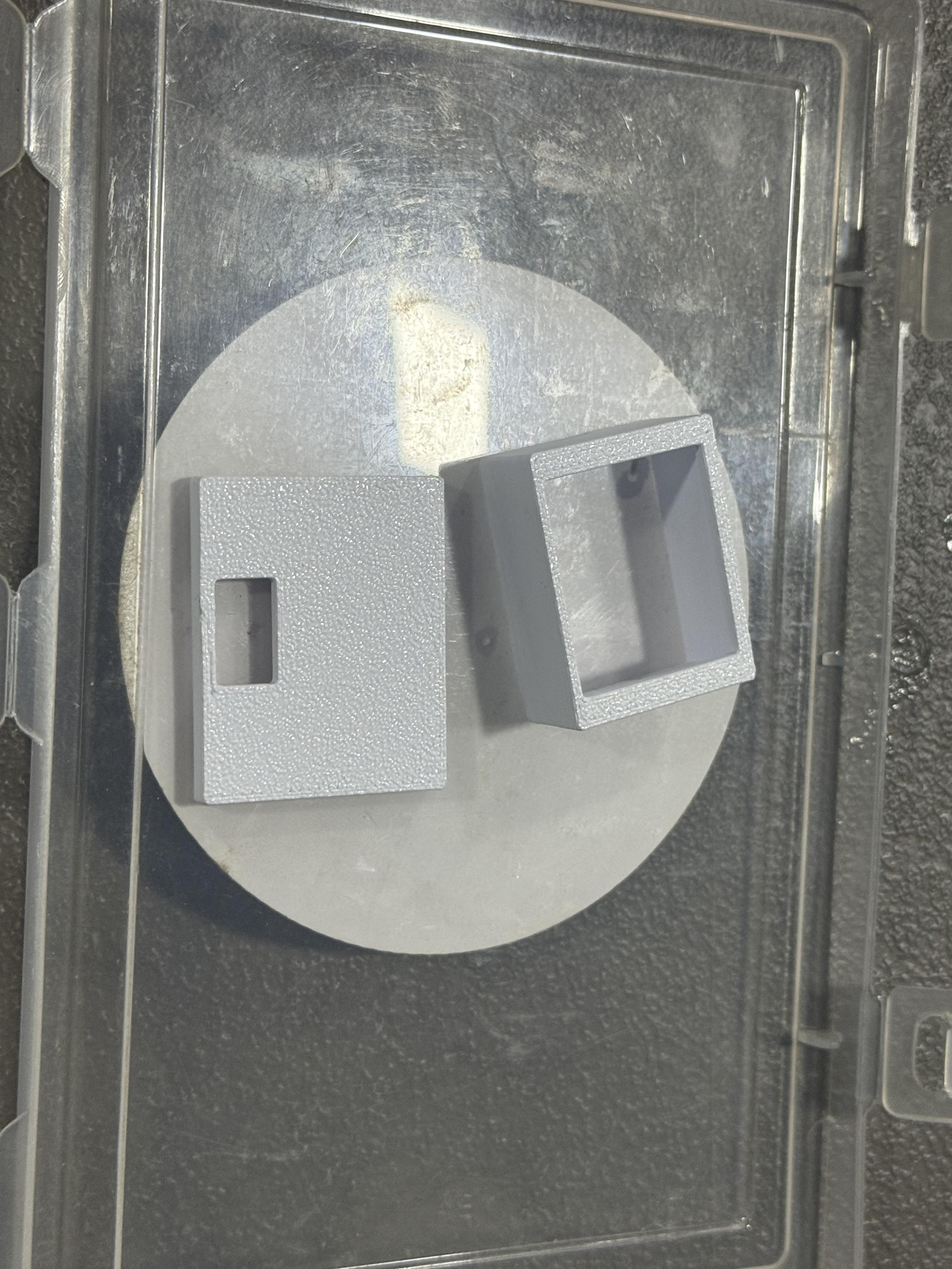enclosure: (439, 412, 757, 730), (190, 475, 447, 805)
